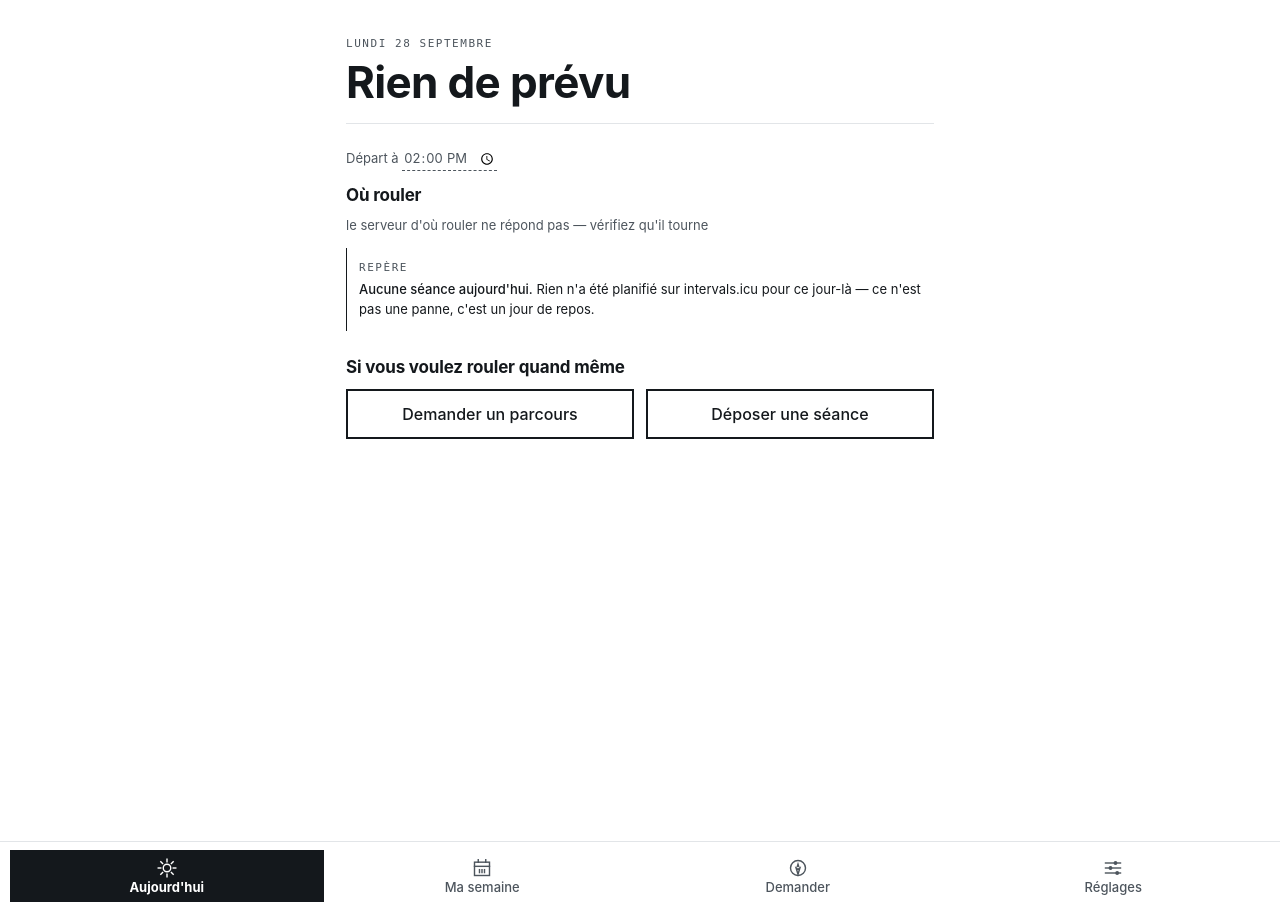
Test: Mes sorties passées › montre l'état déjà déposé au chargement
Click the button "Déposer une séance" at (790, 414), box [646,389,934,439]
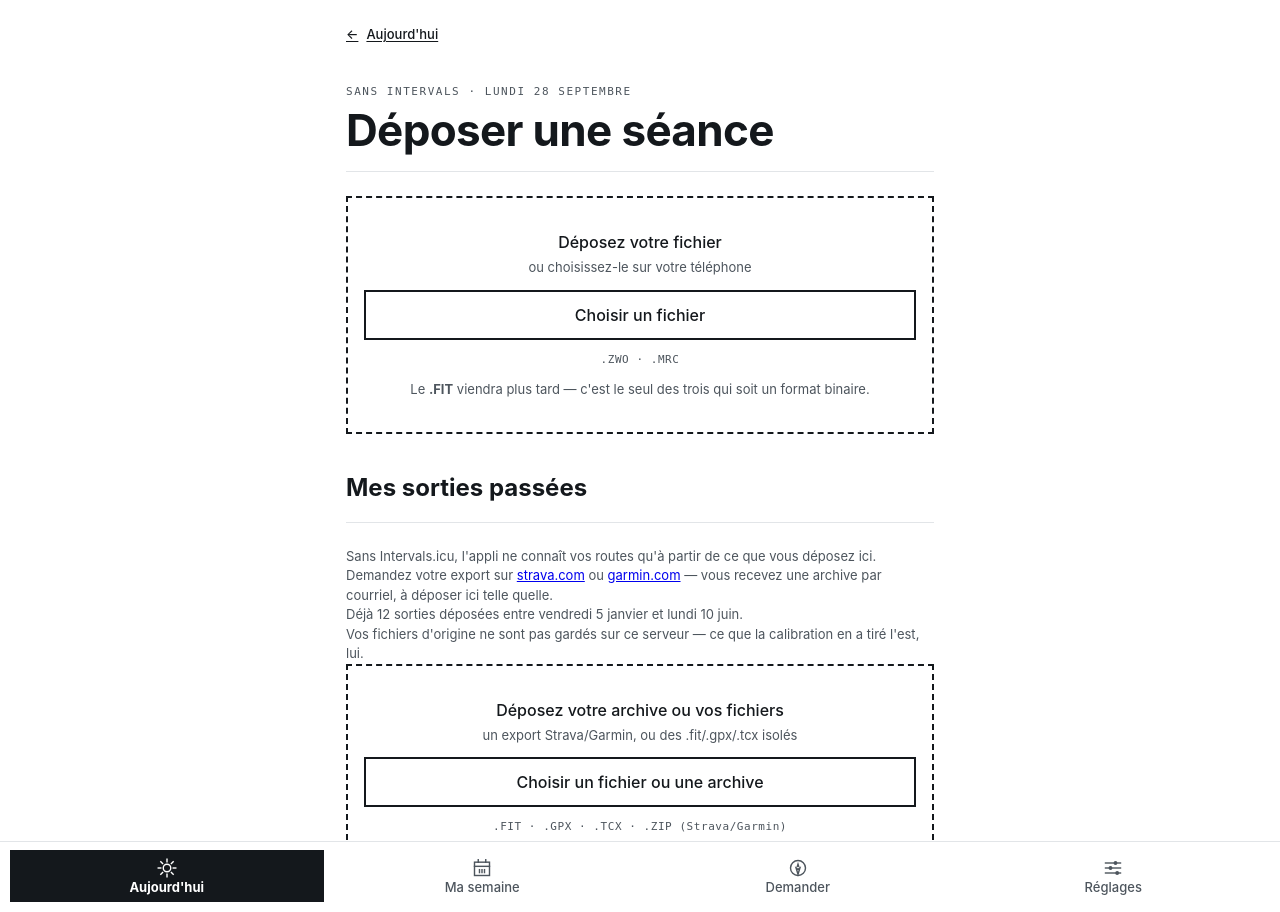
Result: the heading "Mes sorties passées" is shown at [346,470,587,506]
Result: the text "Déjà 12 sorties déposées" is shown at [346,606,743,622]
